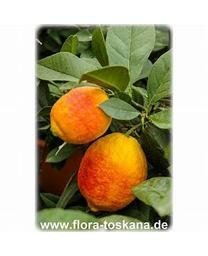lemon: (76, 132, 148, 215), (48, 84, 112, 145)
